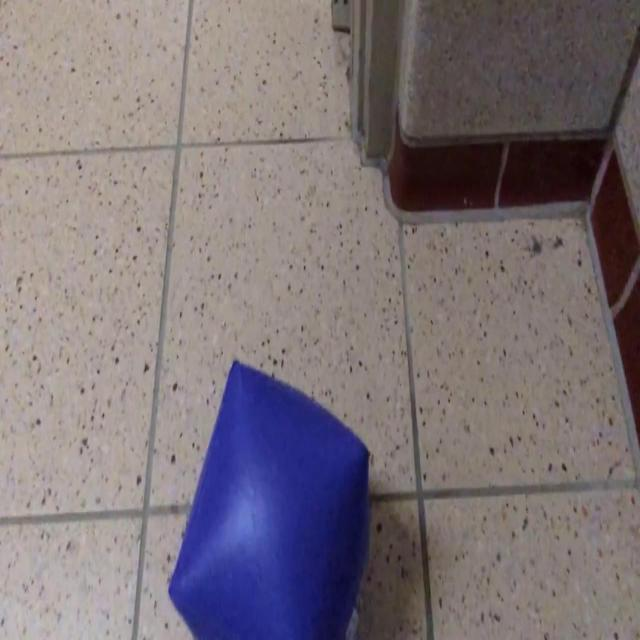frc_cube: (168, 361, 370, 640)
